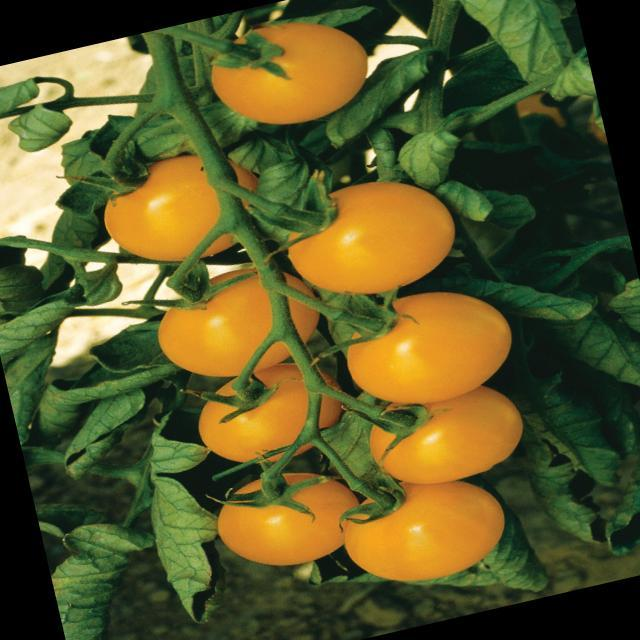TOMATO: (201, 2, 420, 165), (278, 154, 466, 312), (273, 158, 467, 308), (340, 268, 526, 412), (95, 142, 252, 284), (204, 454, 366, 576), (156, 264, 324, 378), (362, 475, 512, 588)
